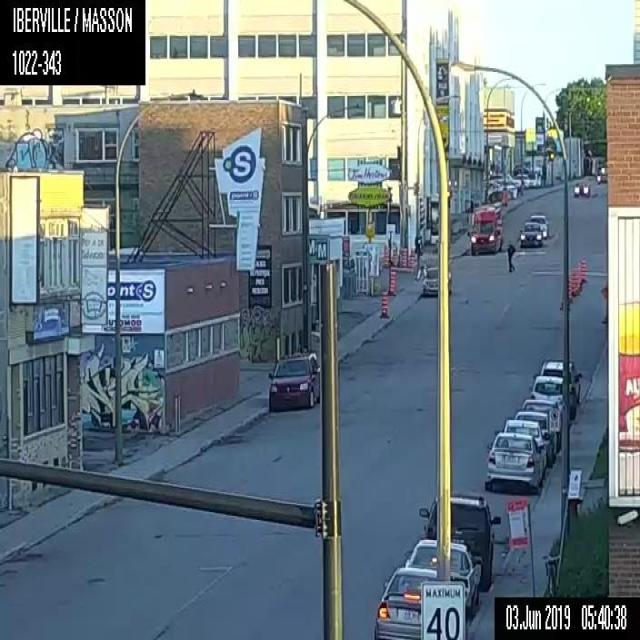construction: (378, 290, 391, 317), (386, 268, 398, 297), (575, 261, 582, 295), (398, 246, 408, 268), (570, 265, 576, 296), (382, 245, 390, 267), (580, 256, 586, 282), (391, 245, 398, 267), (408, 251, 415, 271)
pedestrian: (506, 239, 516, 272)
vehicle: (417, 491, 501, 591), (401, 532, 478, 616), (372, 566, 446, 639), (484, 428, 541, 492), (267, 348, 319, 411), (495, 418, 546, 474), (536, 360, 579, 420), (513, 408, 553, 468), (521, 397, 559, 458), (527, 373, 567, 430), (465, 200, 503, 255), (421, 264, 452, 300), (518, 222, 542, 246), (528, 212, 549, 239), (594, 163, 606, 184), (574, 180, 589, 196)
